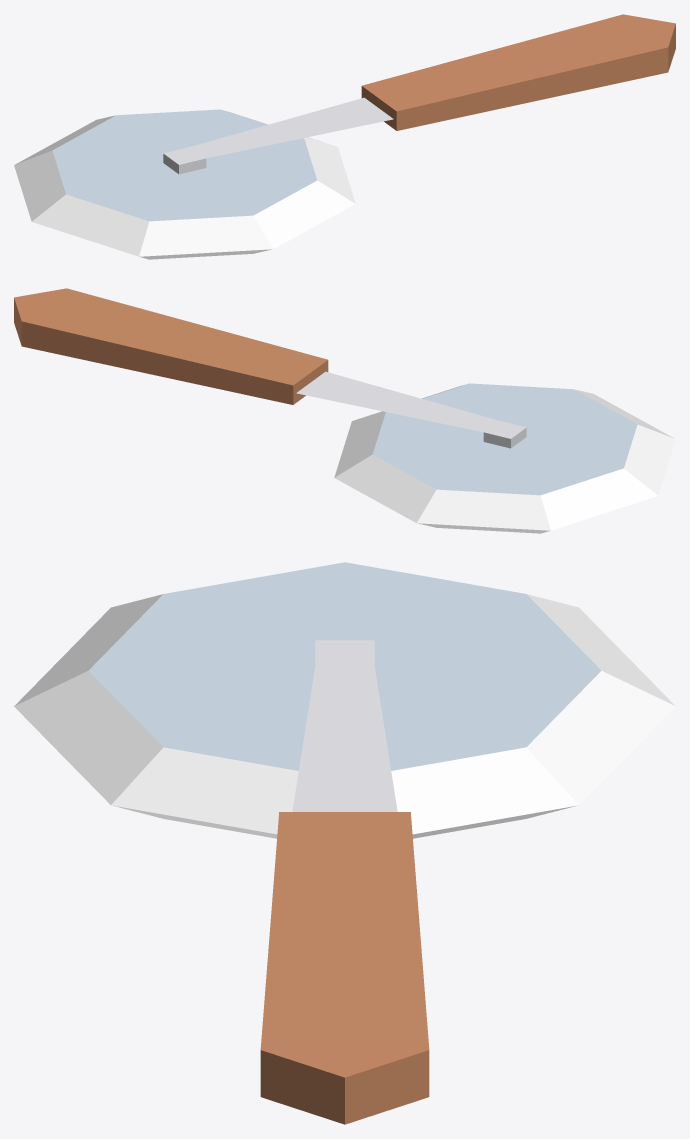
Rendered from pizzaCutter.fbx.
3 renders of one model, top to bottom at view 1: azimuth 30°, elevation 25°; view 2: azimuth 150°, elevation 25°; view 3: azimuth 270°, elevation 25°, orthographic. The views are drawn at different scales.
Parts seen in each view (by area): view 1: pizzaCutter; view 2: pizzaCutter; view 3: pizzaCutter.
Boxes of the visible parts, x1=… form: pizzaCutter: x1=14, y1=14, x2=675, y2=259; pizzaCutter: x1=14, y1=288, x2=675, y2=533; pizzaCutter: x1=14, y1=562, x2=675, y2=1124.
Bounding box in the file's own units: 5.36 × 0.556 × 2.55.
